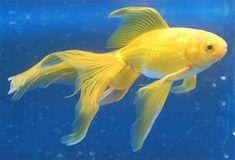goldfish: (66, 20, 230, 105)
